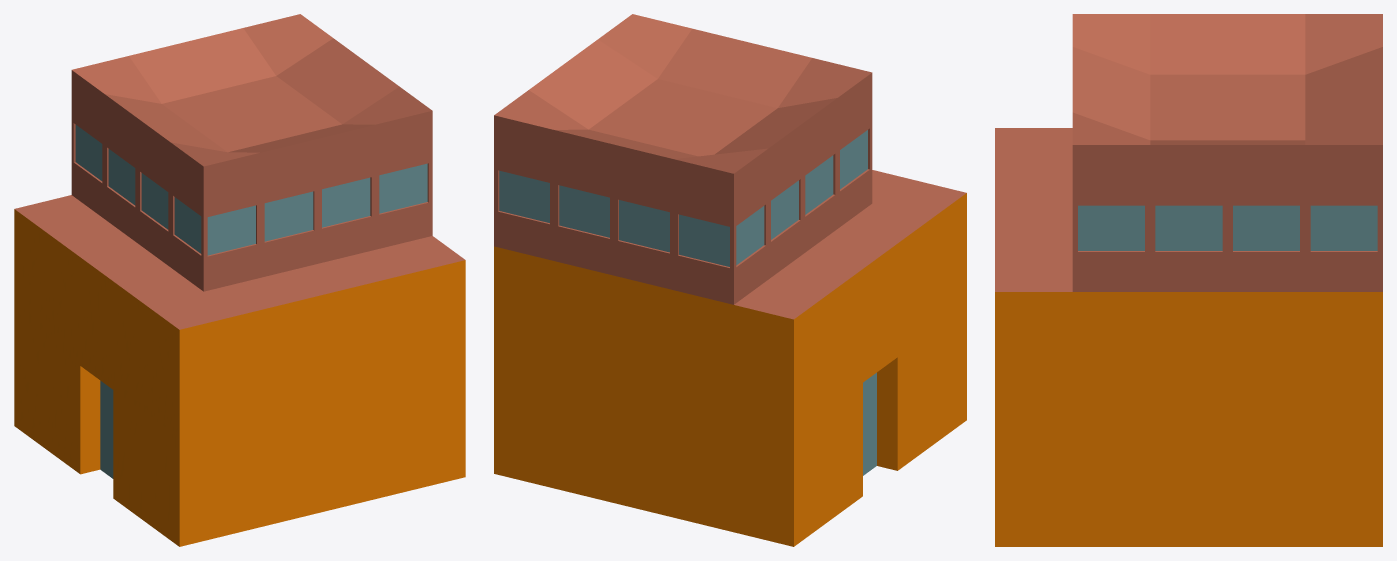
The model's file is scoutImmo.fbx.
3 views of the same model, side by side, from view 1: azimuth 30°, elevation 25°; view 2: azimuth 150°, elevation 25°; view 3: azimuth 270°, elevation 25° (orthographic). The views are drawn at different scales.
Parts seen in each view (by area): view 1: ScoutImmo; view 2: ScoutImmo; view 3: ScoutImmo.
Part boxes in pixels (box(x1,y1,x2,y2)): ScoutImmo: box(14, 14, 465, 546); ScoutImmo: box(494, 14, 966, 546); ScoutImmo: box(995, 14, 1382, 546).
Bounding box in the file's own units: 1595 × 1823 × 1595.
